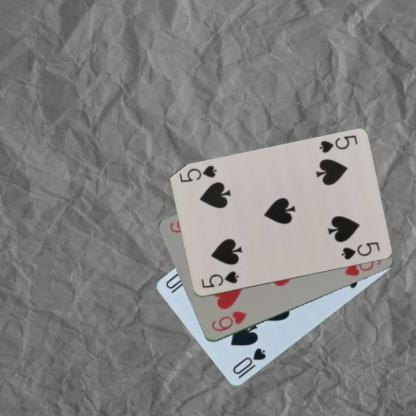10s: (230, 346, 268, 376)
5s: (316, 133, 359, 155), (198, 268, 240, 290)
6h: (208, 308, 248, 333)
